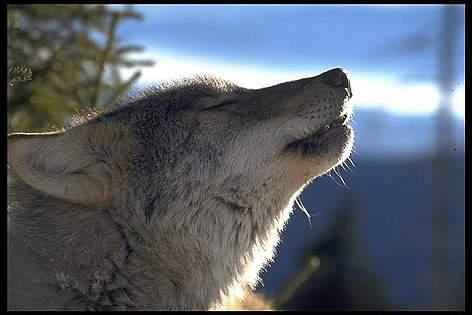fox: (8, 67, 356, 315)
